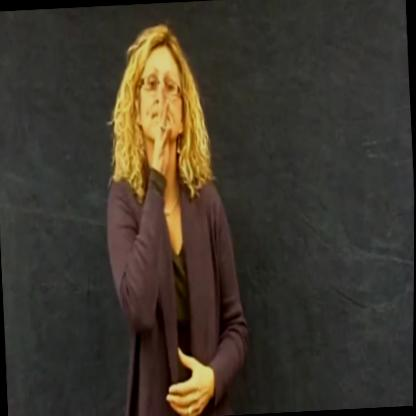Talk: (92, 16, 256, 416)
